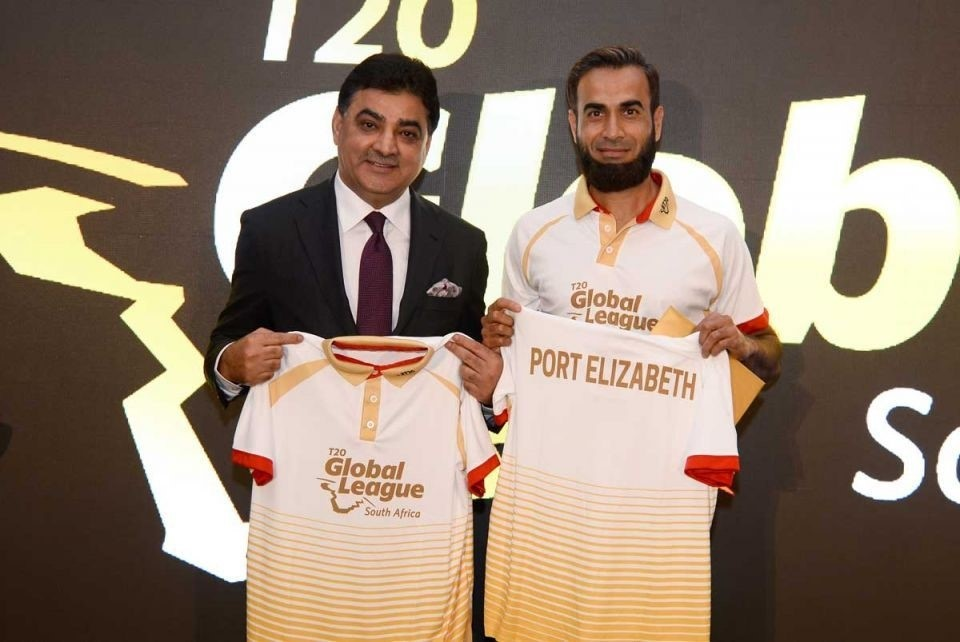face_no_mask: (334, 54, 440, 194), (565, 48, 664, 191)
